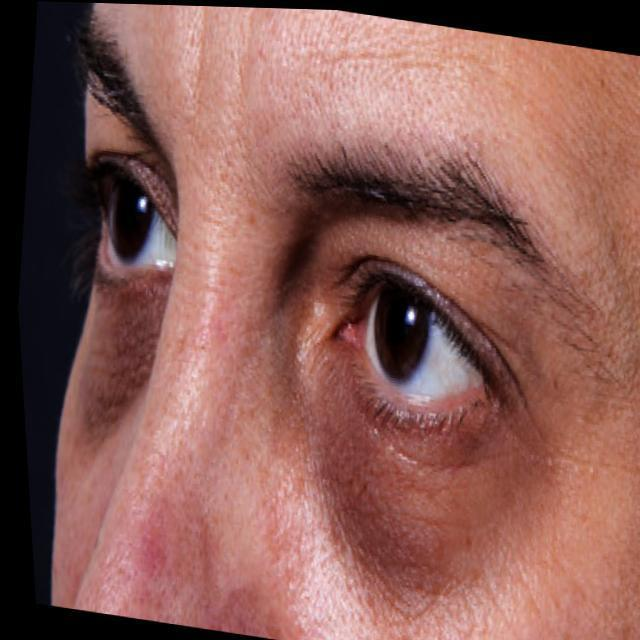puffy_eyes: (297, 360, 497, 589), (74, 281, 165, 419)
